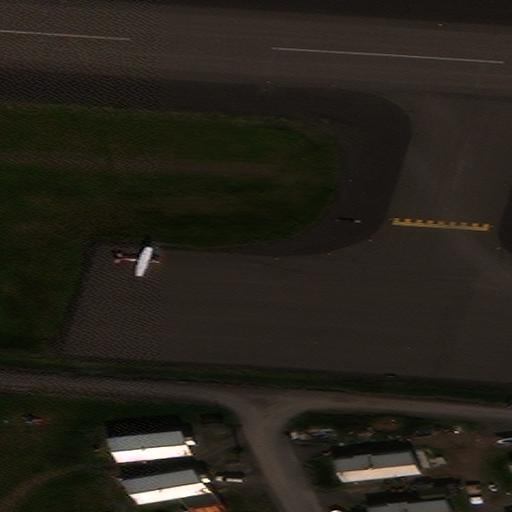Small Civil Transport: (115, 247, 159, 276)
